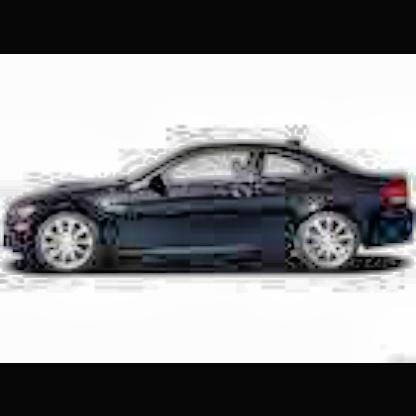BMW M3 Coupe 2012: (4, 146, 416, 282)
